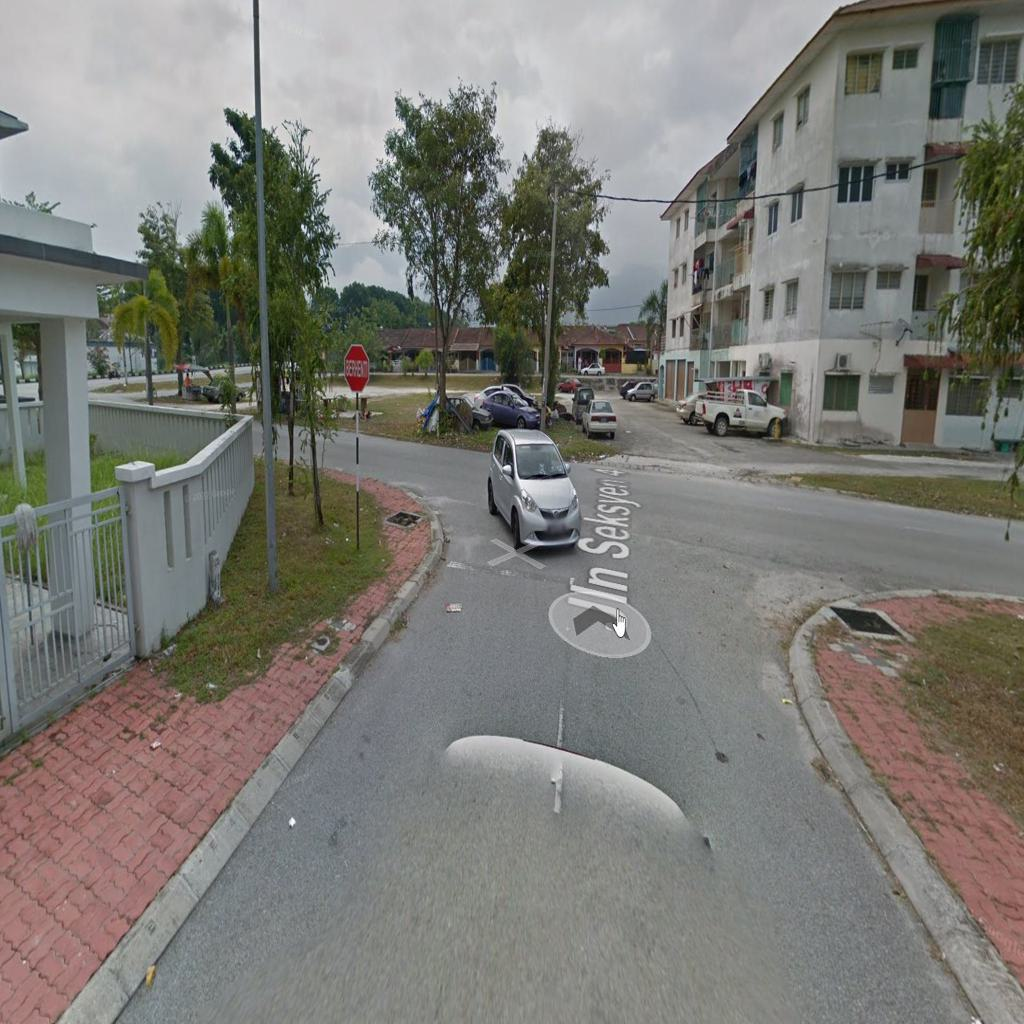Junction: (762, 473, 1018, 702), (318, 400, 464, 552)
